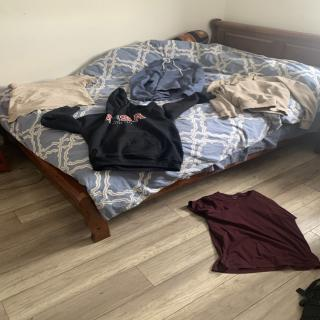Blue Hoodie: (128, 54, 204, 100)
HOSA Hoodie: (53, 94, 187, 172)
Maroon T-Shirt: (183, 187, 319, 275)
Yellow Hoodie: (208, 72, 319, 126)
Yellow T-Shirt: (2, 76, 94, 112)
